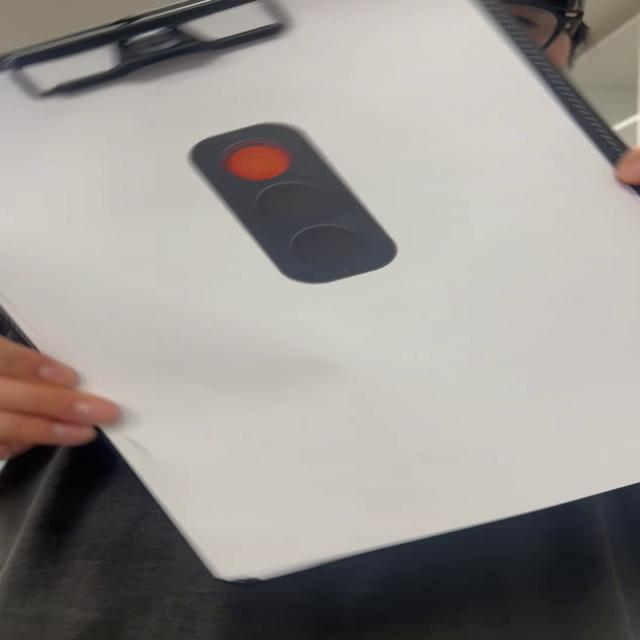red: (191, 123, 399, 287)
